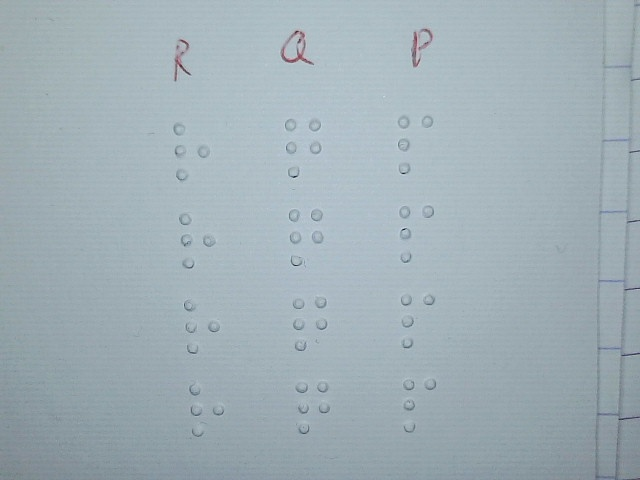P: (397, 112, 435, 175), (397, 202, 435, 263), (401, 374, 439, 433), (400, 290, 437, 349)
Q: (284, 115, 322, 178), (288, 206, 325, 267), (292, 294, 329, 352), (295, 378, 331, 434)
R: (173, 120, 212, 181), (178, 211, 217, 268), (183, 297, 221, 353), (188, 381, 226, 437)
